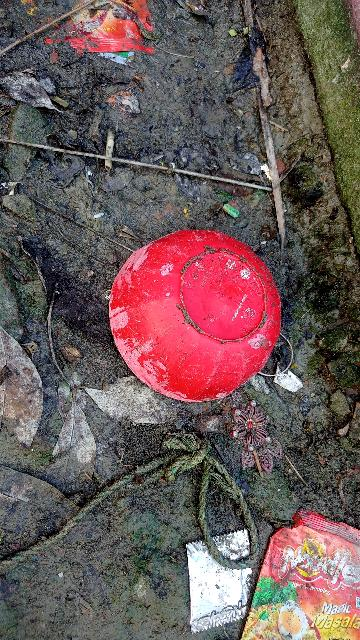hardplastic: (111, 222, 282, 398)
